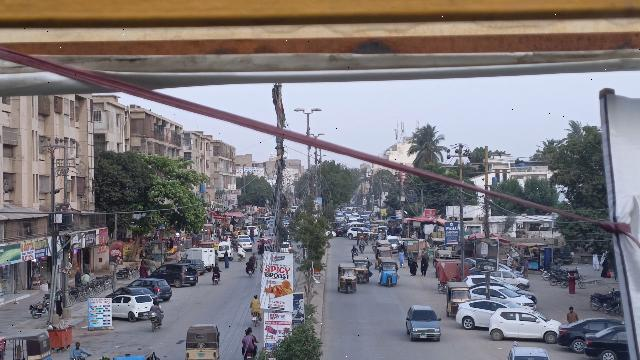Bike: (146, 312, 164, 333), (242, 346, 257, 360), (210, 273, 221, 290), (250, 313, 261, 329)
Car: (486, 304, 560, 343), (454, 298, 512, 332), (557, 317, 612, 347), (582, 324, 626, 360), (403, 305, 443, 343), (150, 262, 199, 287), (113, 292, 152, 322)
Person: (248, 293, 262, 314), (564, 304, 580, 322), (408, 255, 419, 277), (242, 329, 254, 348), (420, 255, 429, 277), (149, 300, 162, 315), (212, 262, 222, 274)
Rickshaw: (185, 323, 222, 360), (444, 281, 470, 318), (336, 262, 359, 295), (378, 257, 400, 289), (354, 256, 373, 286)
